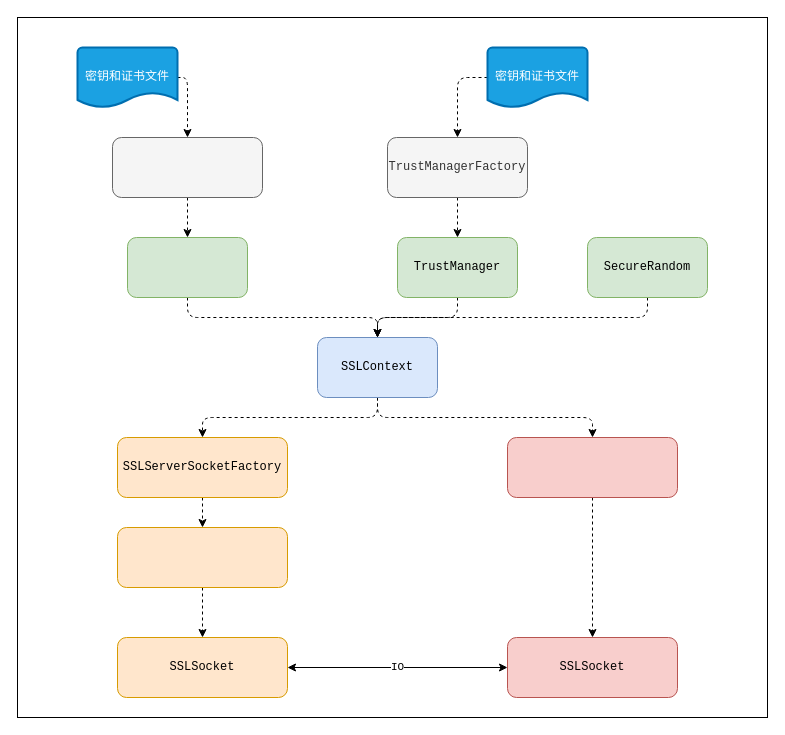
Image size: 785x735. Some labels were removed from this diagram. The centre of each missing label's shape, as x and y in pixels:
"KeyManager" belongs at pixel 187 267.
"KeyManagerFactory" belongs at pixel 187 167.
"SSLServerSocket" belongs at pixel 202 557.
"SSLSocketFactory" belongs at pixel 592 467.
